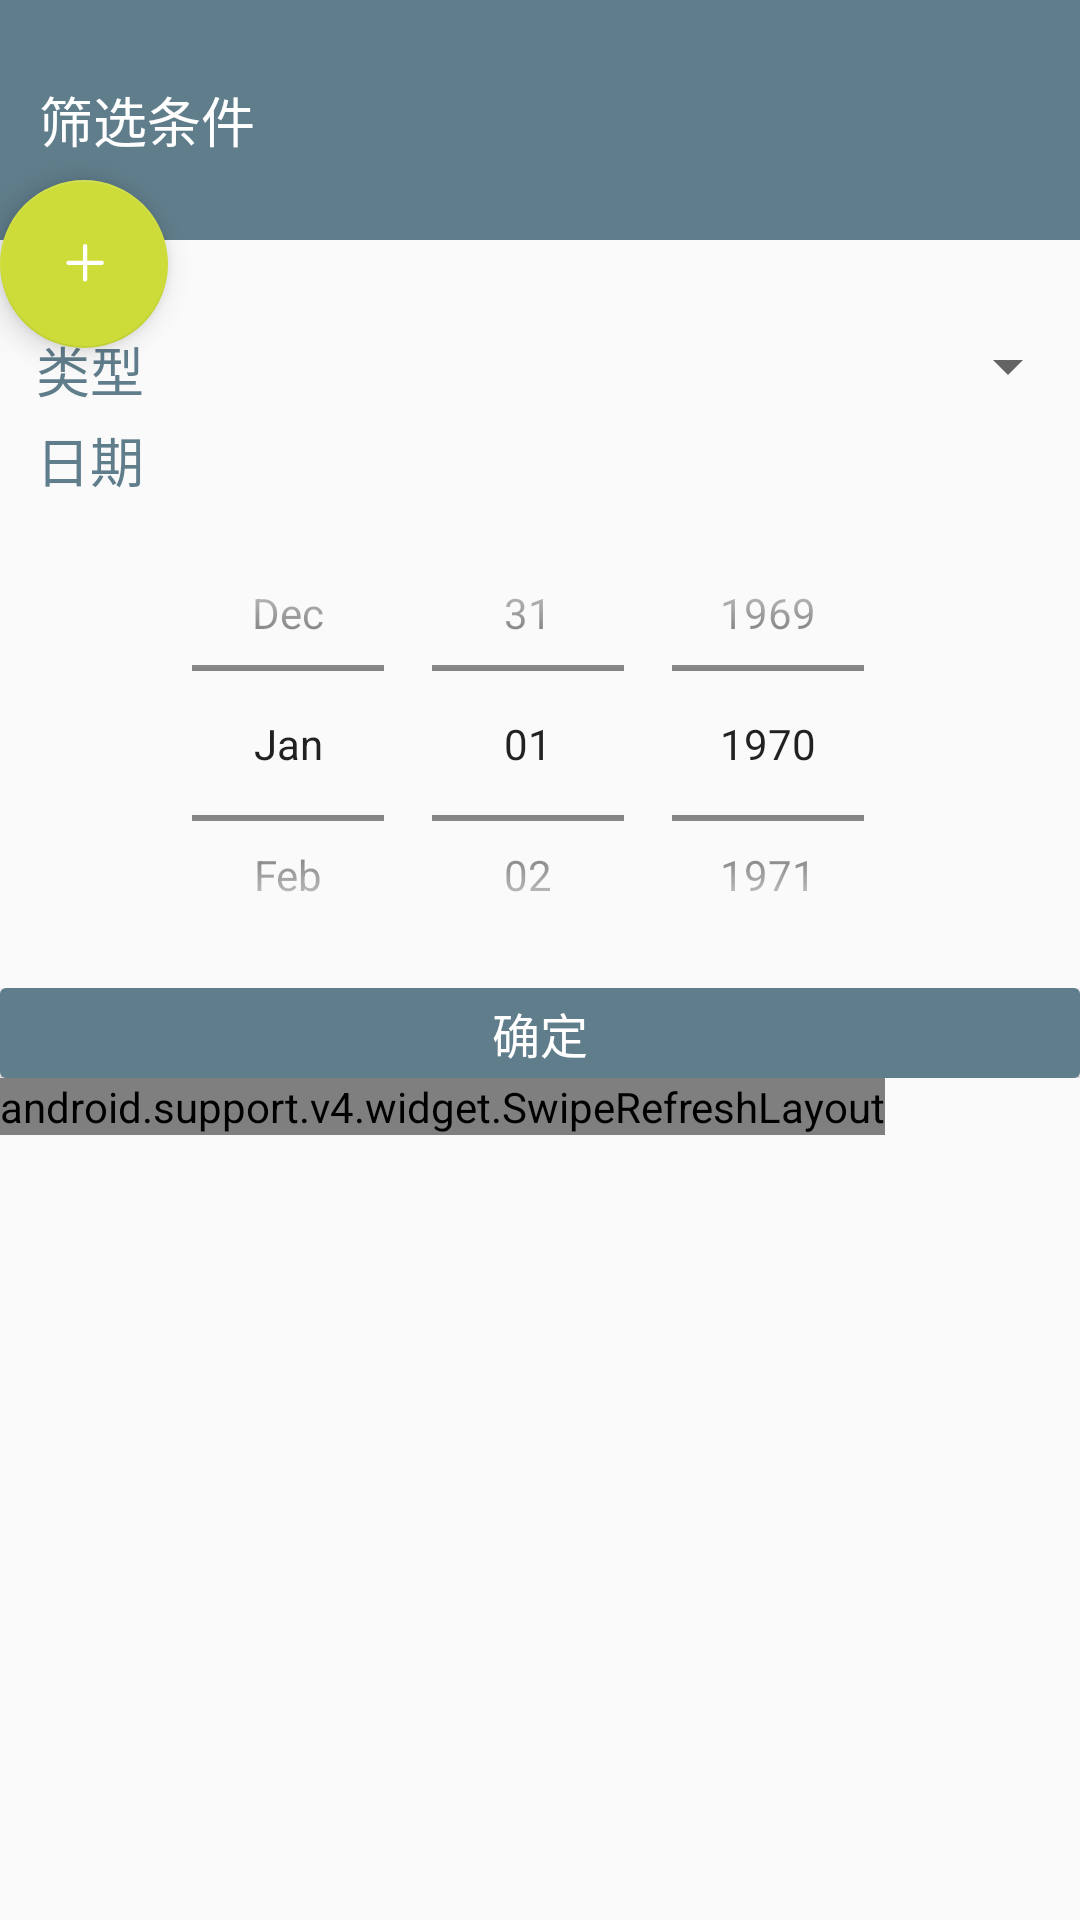

Named icons in this screenshot (1080*1920) and their centers, [x,y]:
add: [84,264]
